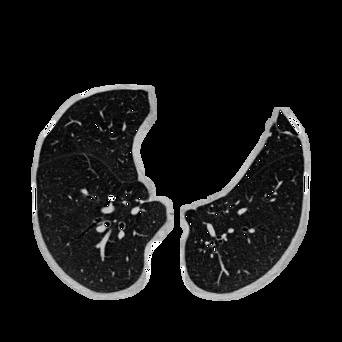PN: (108, 195, 114, 201)
